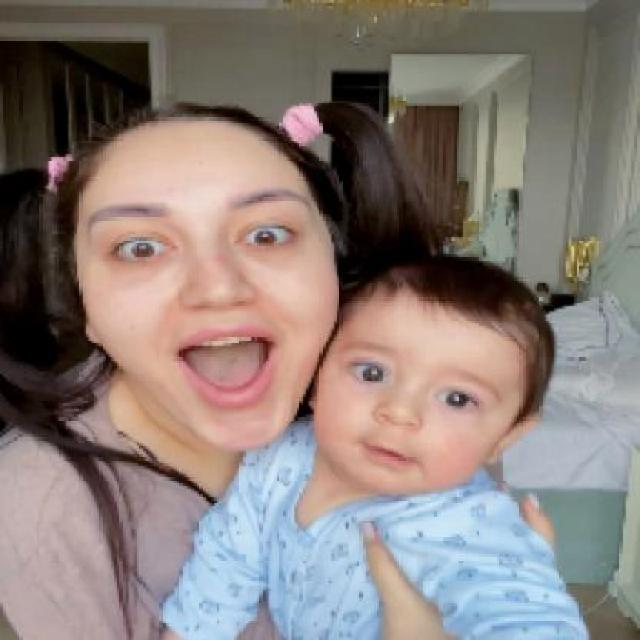child: (157, 254, 583, 637)
